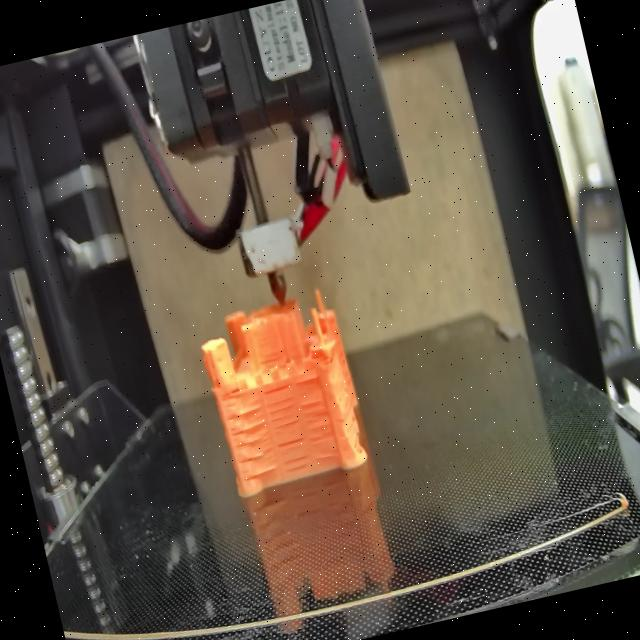cracks: (226, 406, 278, 484), (299, 398, 337, 460), (262, 384, 302, 434), (275, 434, 314, 476), (294, 368, 320, 390), (260, 346, 286, 368), (222, 377, 248, 398)
